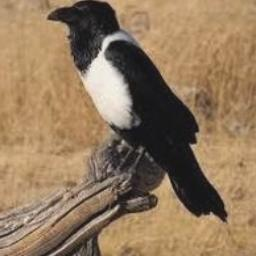Crow: (46, 0, 228, 224)
